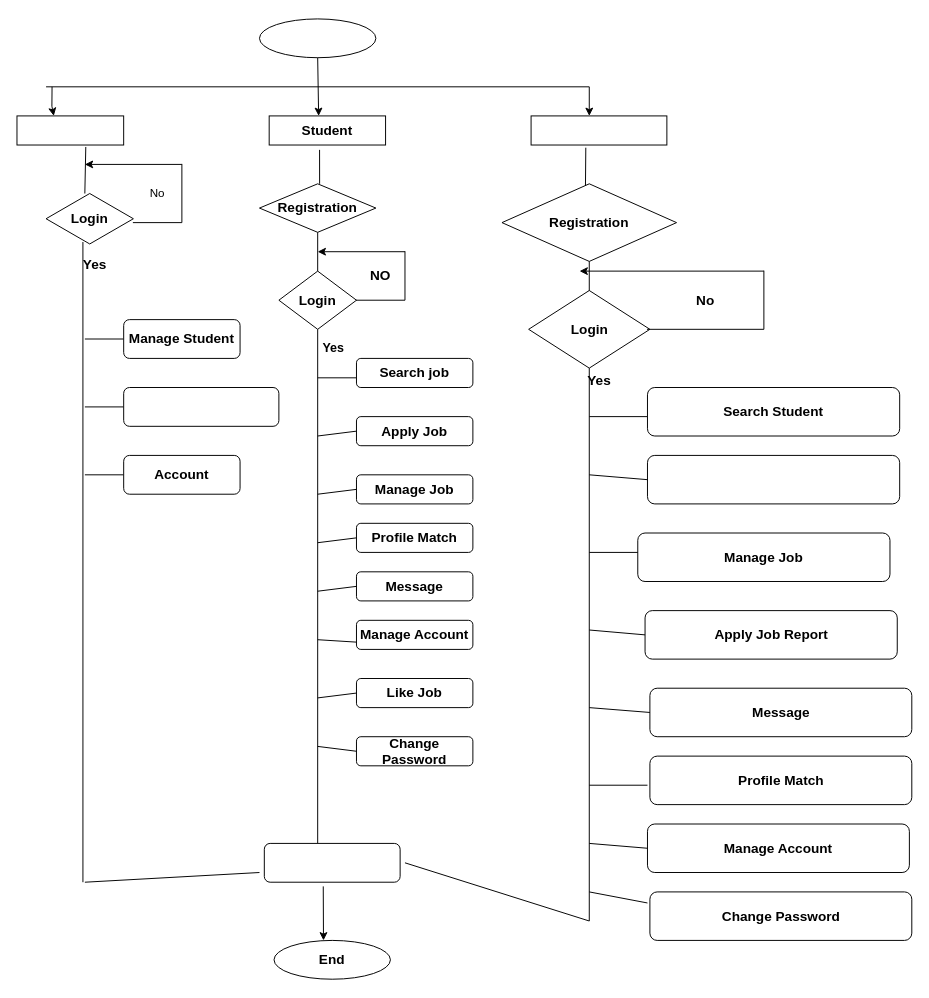
The diagram is 929 pixels wide and 998 high, and some of its shapes have lost their labels. Each missing label, with the centre of its shape:
Admin: [70,130]
Company: [598,130]
Logout: [331,862]
Manage Company: [201,406]
Post Job: [773,479]
Start: [317,38]
